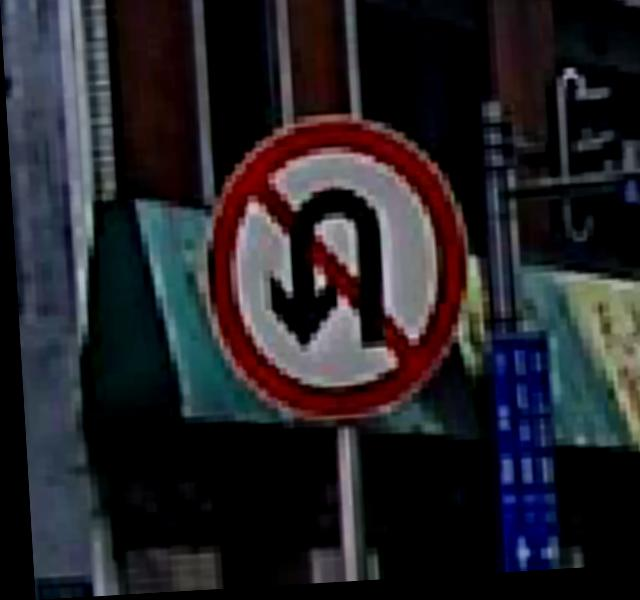not_u_turn_left: (179, 113, 476, 421)
